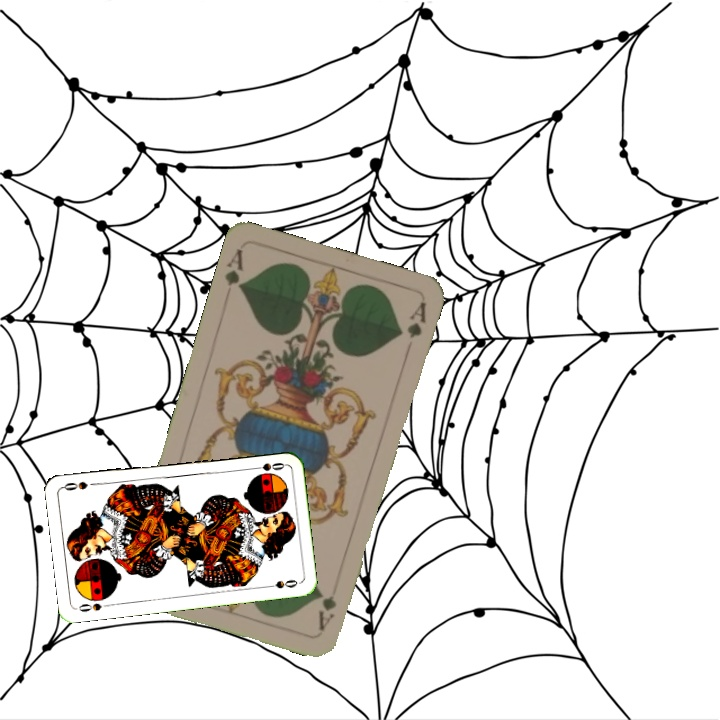GA: (314, 577, 342, 633), (220, 244, 247, 294)
SO: (247, 458, 287, 474), (73, 599, 114, 614)
